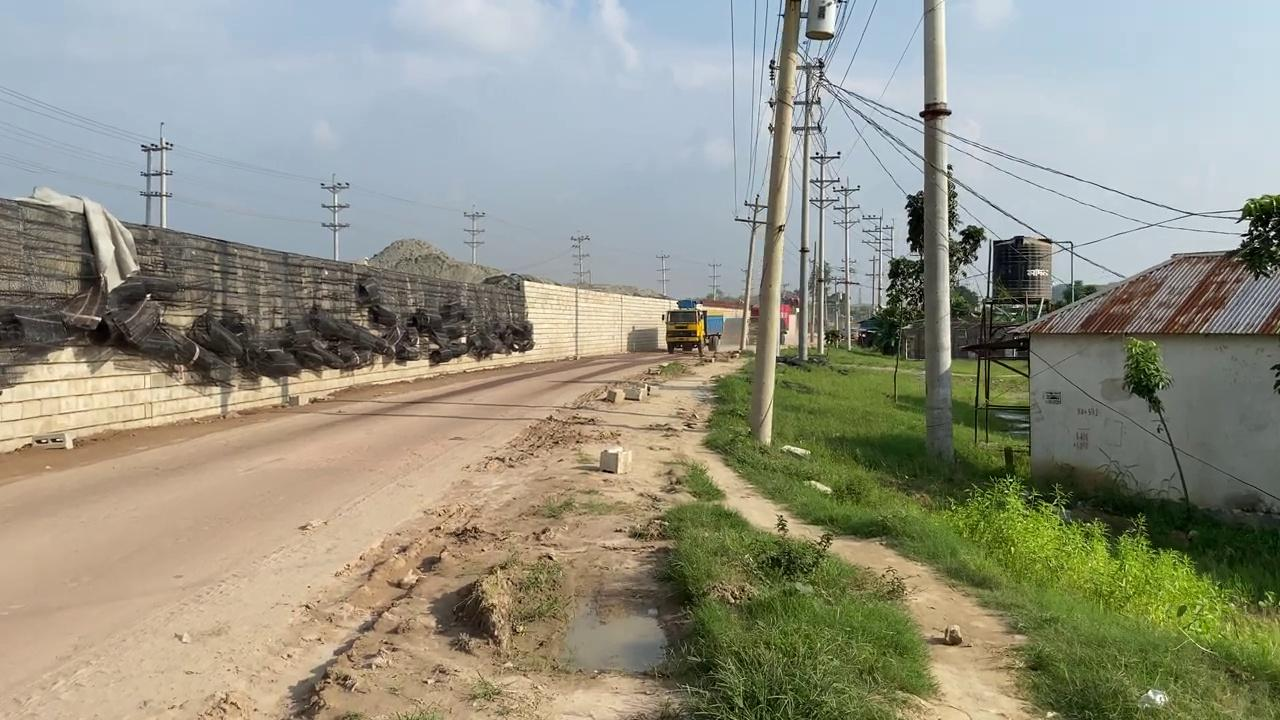Obstacle: (960, 234, 1055, 443), (598, 445, 632, 474)
Pole: (747, 0, 802, 447), (920, 0, 954, 469), (794, 63, 813, 361)
Rickshaw: (666, 359, 1048, 718)
Sidewalk: (553, 596, 671, 676)
Traffic-sign: (1120, 335, 1191, 511)
Tree: (959, 295, 1052, 359), (661, 299, 723, 355), (747, 295, 797, 344)
Upstairs: (0, 191, 683, 453)
